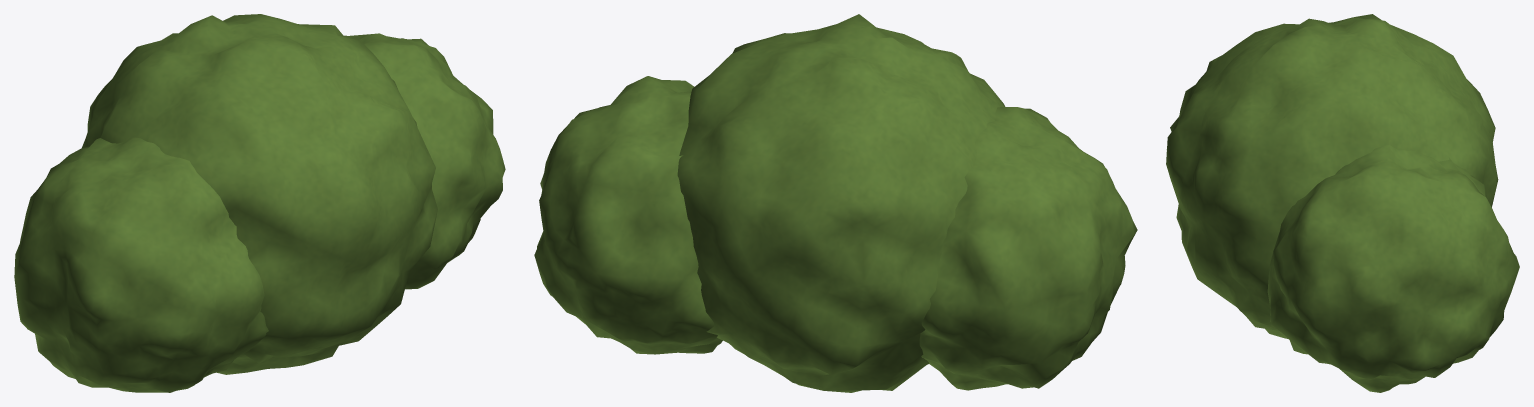
File: bush.glb
The picture shows the model from 3 angles, left to right: view 1: azimuth 30°, elevation 25°; view 2: azimuth 150°, elevation 25°; view 3: azimuth 270°, elevation 25°; orthographic projection. The views are drawn at different scales.
Visible parts, largest first — view 1: bush; view 2: bush; view 3: bush.
Boxes of the visible parts, x1,y1,x2,y2 form: bush: (14,14,505,392); bush: (534,14,1137,392); bush: (1166,14,1519,392).
Size of the model in its own units: 2.83 by 1.81 by 1.92.
1 material, 1 textured.
